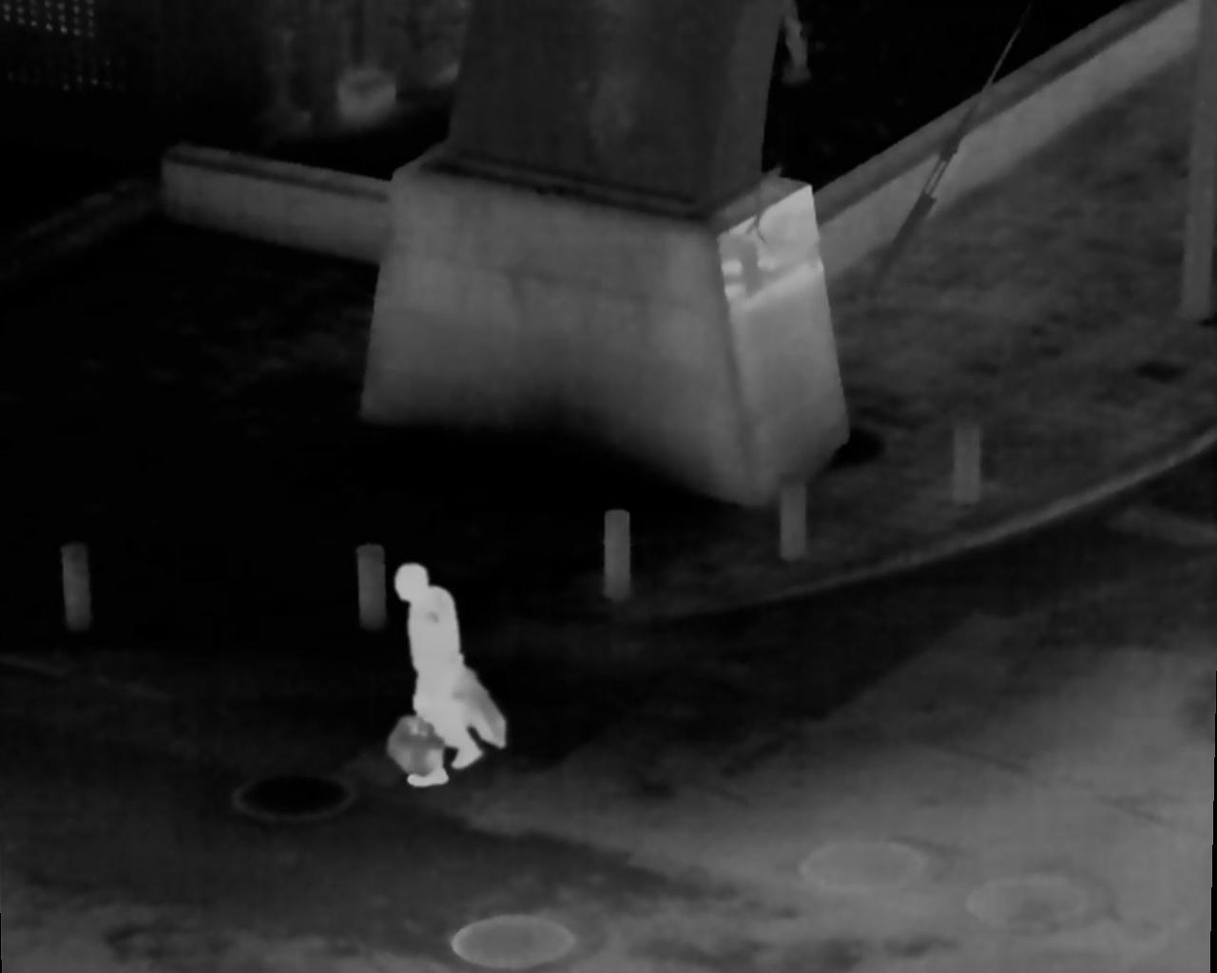person: (396, 562, 501, 787)
